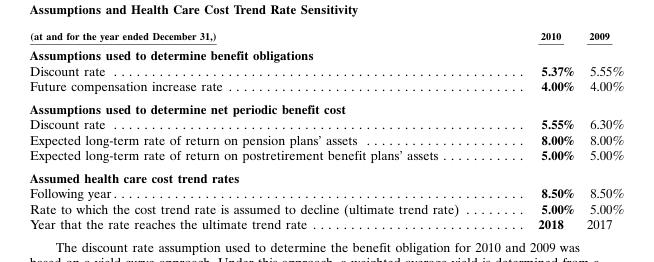table: (29, 29, 623, 231)
table column: (29, 29, 497, 231), (497, 29, 579, 231), (579, 29, 623, 231)
table column header: (29, 29, 623, 44)
table projected row header: (29, 44, 623, 62), (29, 97, 623, 115), (29, 166, 623, 184)
table row: (29, 77, 623, 97), (29, 146, 623, 166), (29, 44, 623, 62), (29, 97, 623, 115), (29, 166, 623, 184), (29, 115, 623, 131), (29, 184, 623, 200), (29, 215, 623, 231), (29, 29, 623, 44), (29, 62, 623, 77), (29, 131, 623, 146), (29, 200, 623, 215)
